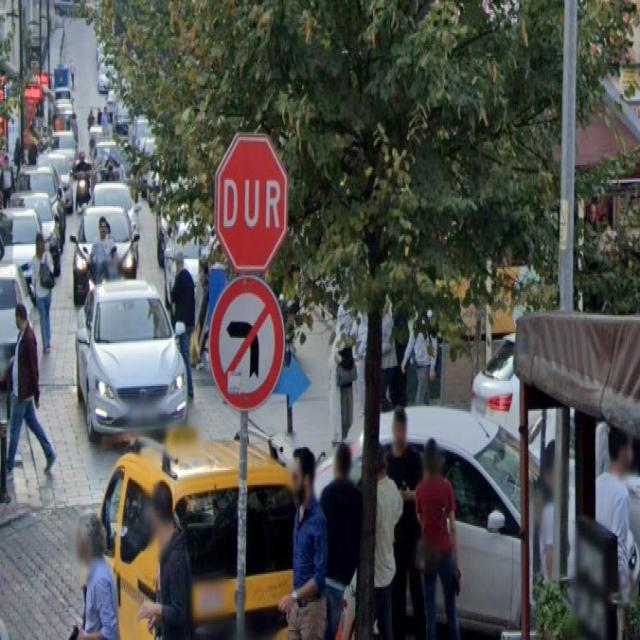dur: (214, 132, 288, 275)
soladonulmez: (209, 276, 286, 409)
